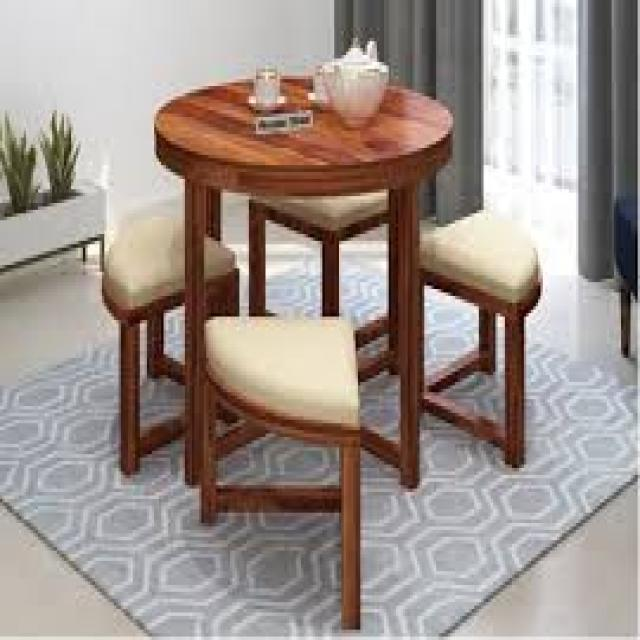obstacle: (139, 27, 477, 255), (196, 264, 382, 588), (79, 153, 202, 486), (423, 181, 565, 461)
